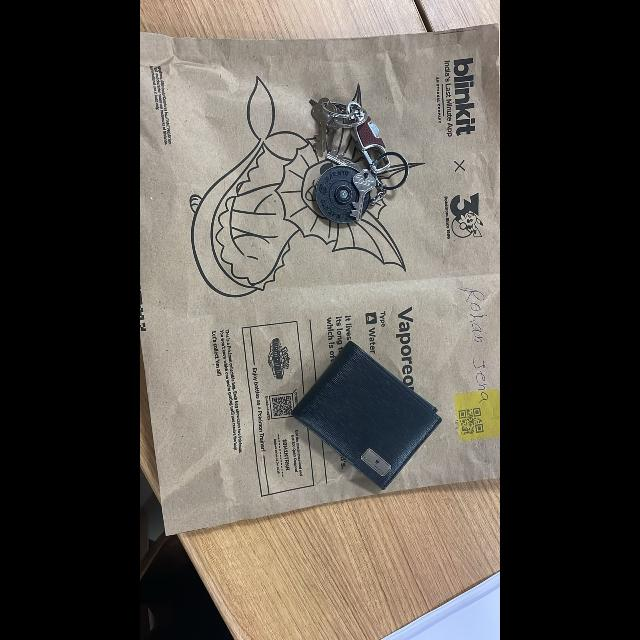keys: (298, 87, 420, 249)
wallet: (285, 335, 455, 497)
